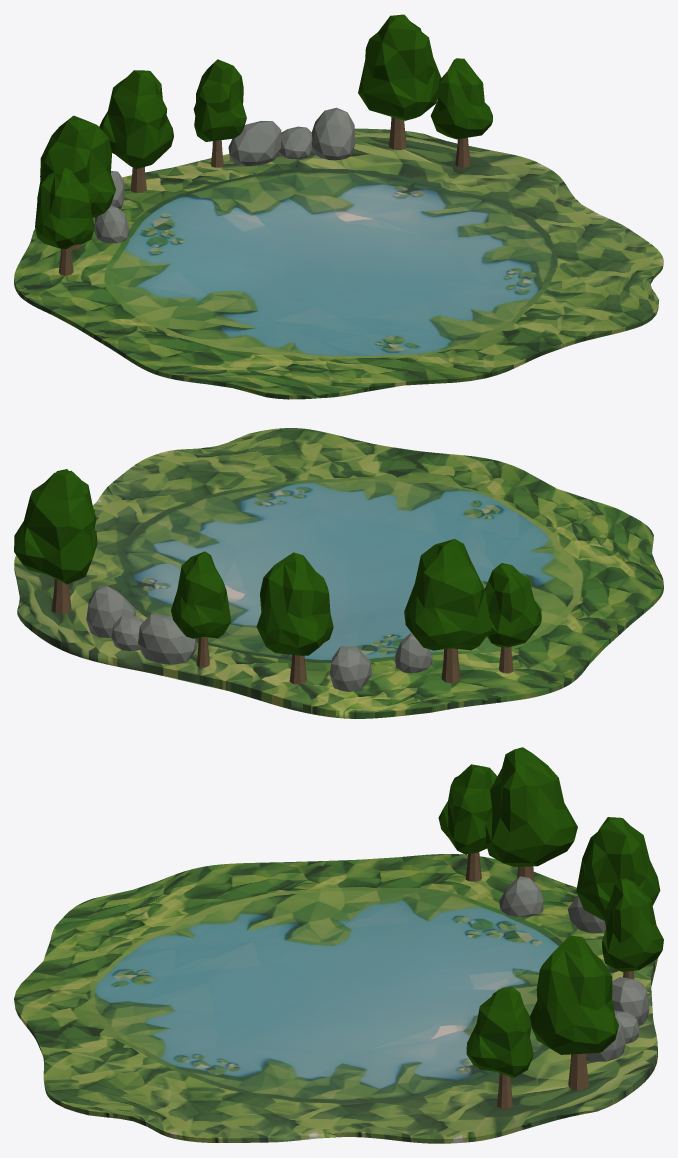
3 renders of one model, top to bottom at view 1: azimuth 30°, elevation 25°; view 2: azimuth 150°, elevation 25°; view 3: azimuth 270°, elevation 25°, orthographic. The views are drawn at different scales.
Visible parts, largest first — view 1: Base, albero2_2, albero3, albero2_1, albero1, albero1_1, albero2, cespuglio5, cespuglio1, cespuglio3, cespuglio4; view 2: Base, albero2_1, albero2_2, albero3, albero2, albero1, cespuglio5, cespuglio1, cespuglio2, cespuglio3, cespuglio4; view 3: Base, albero2_2, albero2_1, albero3, albero1_1, albero2, albero1, cespuglio3, cespuglio5, cespuglio2, cespuglio1.
Part boxes in pixels (bbox=[...]): Base: bbox=[14, 128, 663, 399]; albero2_2: bbox=[358, 14, 441, 149]; albero3: bbox=[99, 70, 173, 192]; albero2_1: bbox=[37, 115, 115, 250]; albero1: bbox=[35, 167, 94, 275]; albero1_1: bbox=[430, 58, 492, 167]; albero2: bbox=[193, 59, 246, 167]; cespuglio5: bbox=[228, 121, 281, 165]; cespuglio1: bbox=[311, 107, 355, 160]; cespuglio3: bbox=[94, 205, 129, 243]; cespuglio4: bbox=[278, 126, 312, 159]; Base: bbox=[14, 428, 663, 718]; albero2_1: bbox=[404, 539, 491, 683]; albero2_2: bbox=[14, 470, 97, 613]; albero3: bbox=[256, 552, 333, 684]; albero2: bbox=[171, 551, 231, 667]; albero1: bbox=[485, 563, 541, 673]; cespuglio5: bbox=[138, 614, 196, 664]; cespuglio1: bbox=[86, 585, 136, 637]; cespuglio2: bbox=[329, 646, 371, 691]; cespuglio3: bbox=[395, 633, 432, 673]; cespuglio4: bbox=[111, 615, 143, 650]; Base: bbox=[14, 854, 657, 1143]; albero2_2: bbox=[530, 935, 618, 1090]; albero2_1: bbox=[485, 747, 577, 881]; albero3: bbox=[576, 817, 660, 921]; albero1_1: bbox=[466, 986, 533, 1108]; albero2: bbox=[602, 878, 663, 979]; albero1: bbox=[438, 764, 497, 881]; cespuglio3: bbox=[499, 876, 543, 916]; cespuglio5: bbox=[612, 977, 649, 1025]; cespuglio2: bbox=[568, 895, 605, 933]; cespuglio1: bbox=[586, 1015, 625, 1061].
Bounding box in the file's own units: 1.83 × 0.4651 × 1.76.
Materials: 6 (1 with a texture image).
